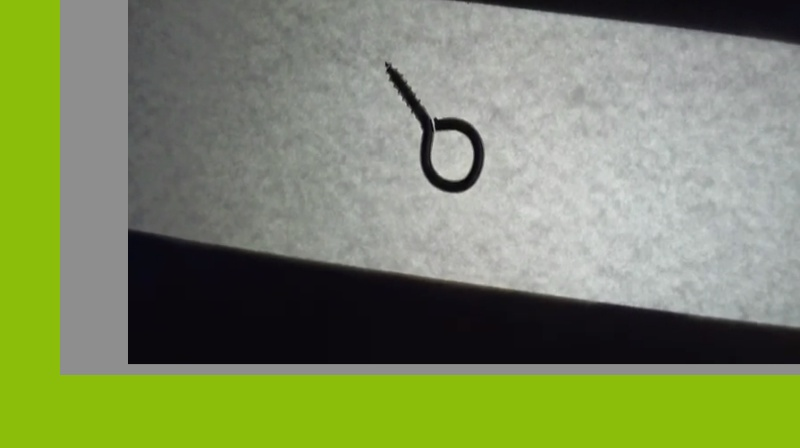O001: (382, 58, 486, 195)
